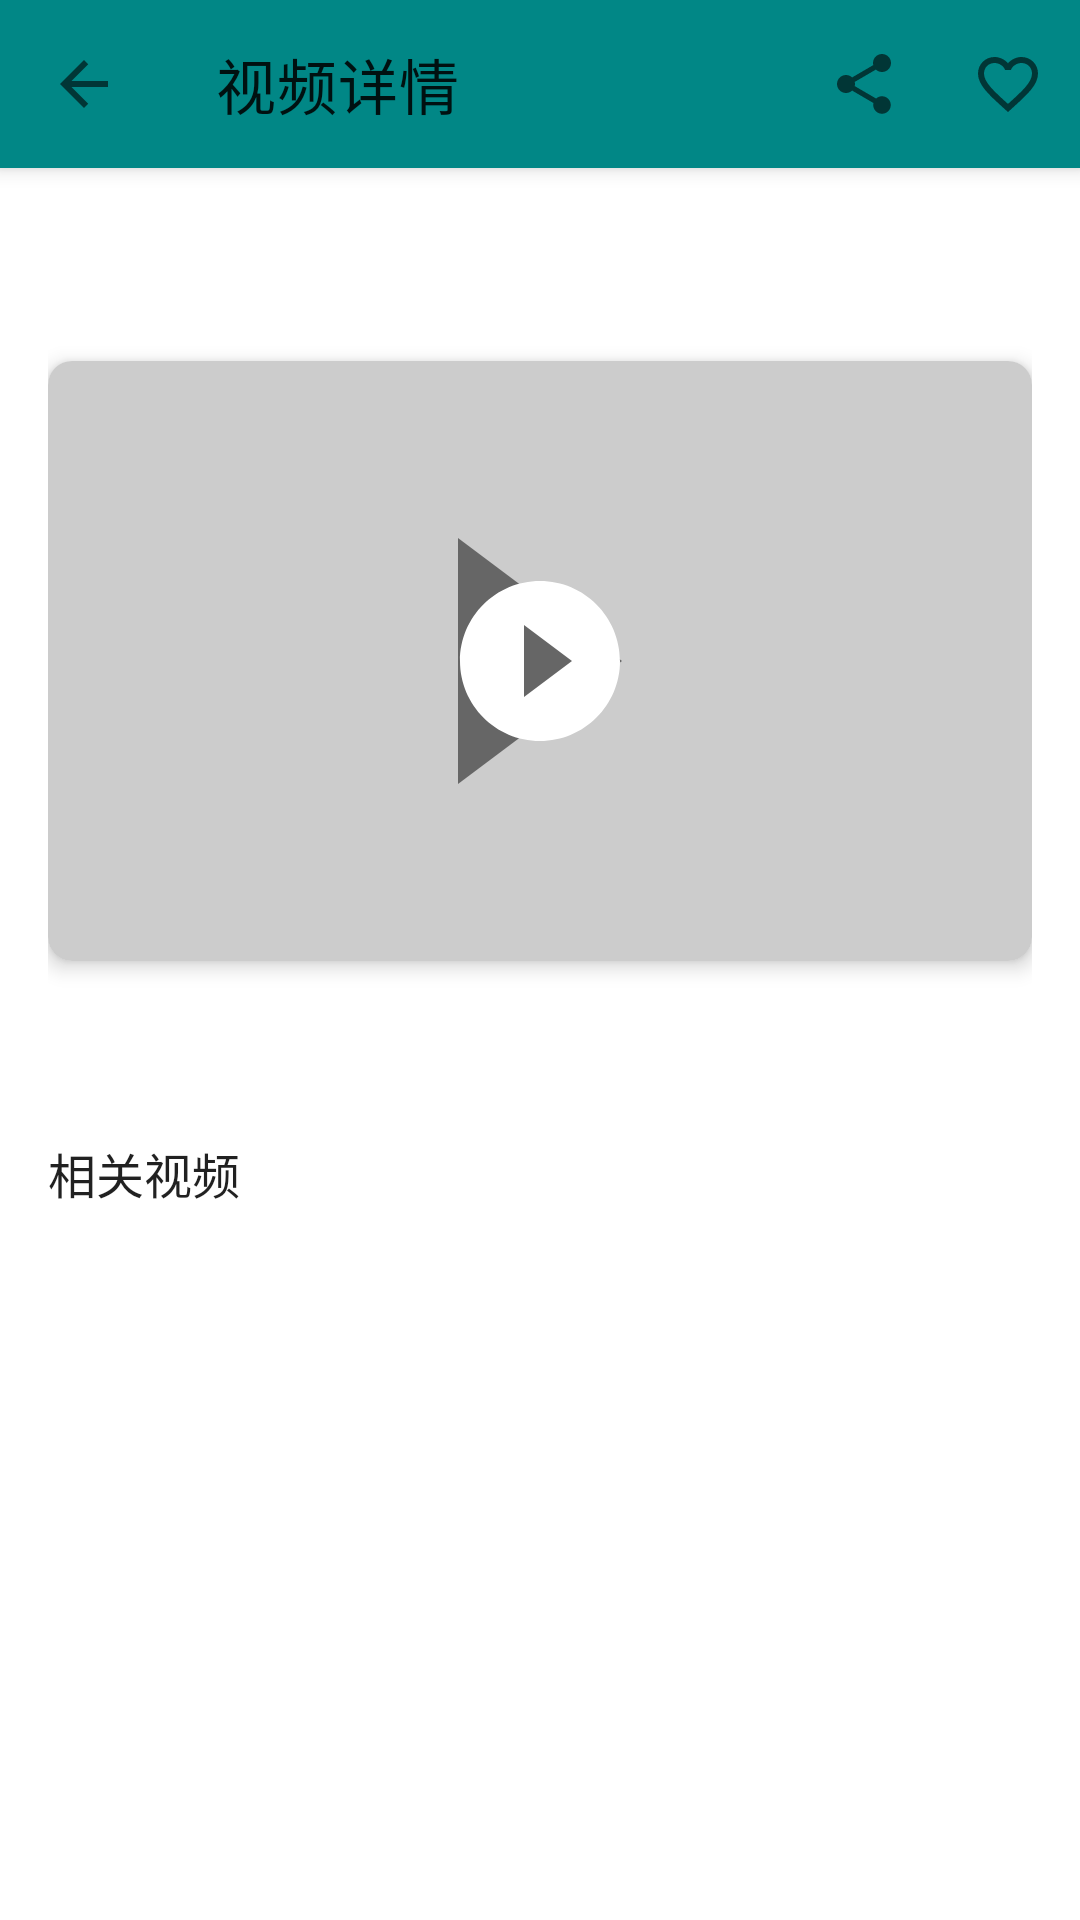

Icons on this 1080 x 1920 Android screen, each with the point to tap as (x,y):
播放视频: (540,661)
